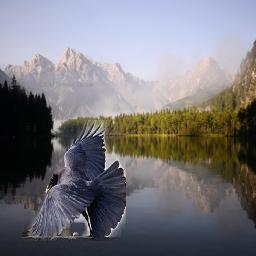Crow: (22, 121, 126, 242)
